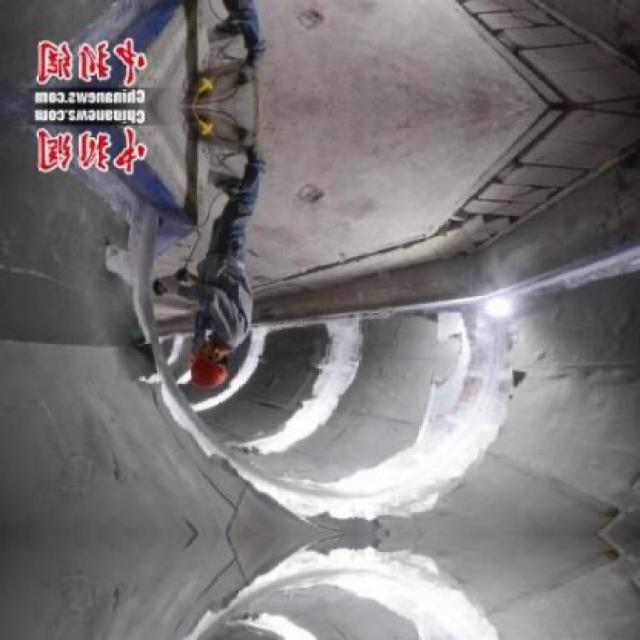con casco: (179, 347, 241, 400)
